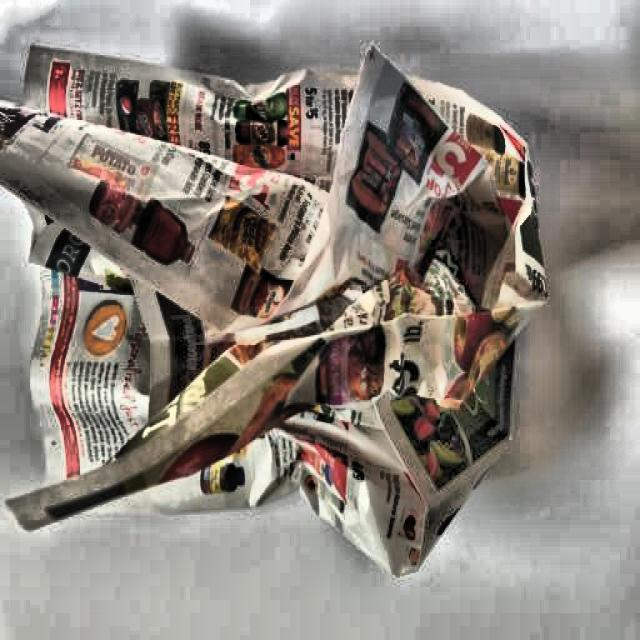paper: (6, 39, 523, 564)
